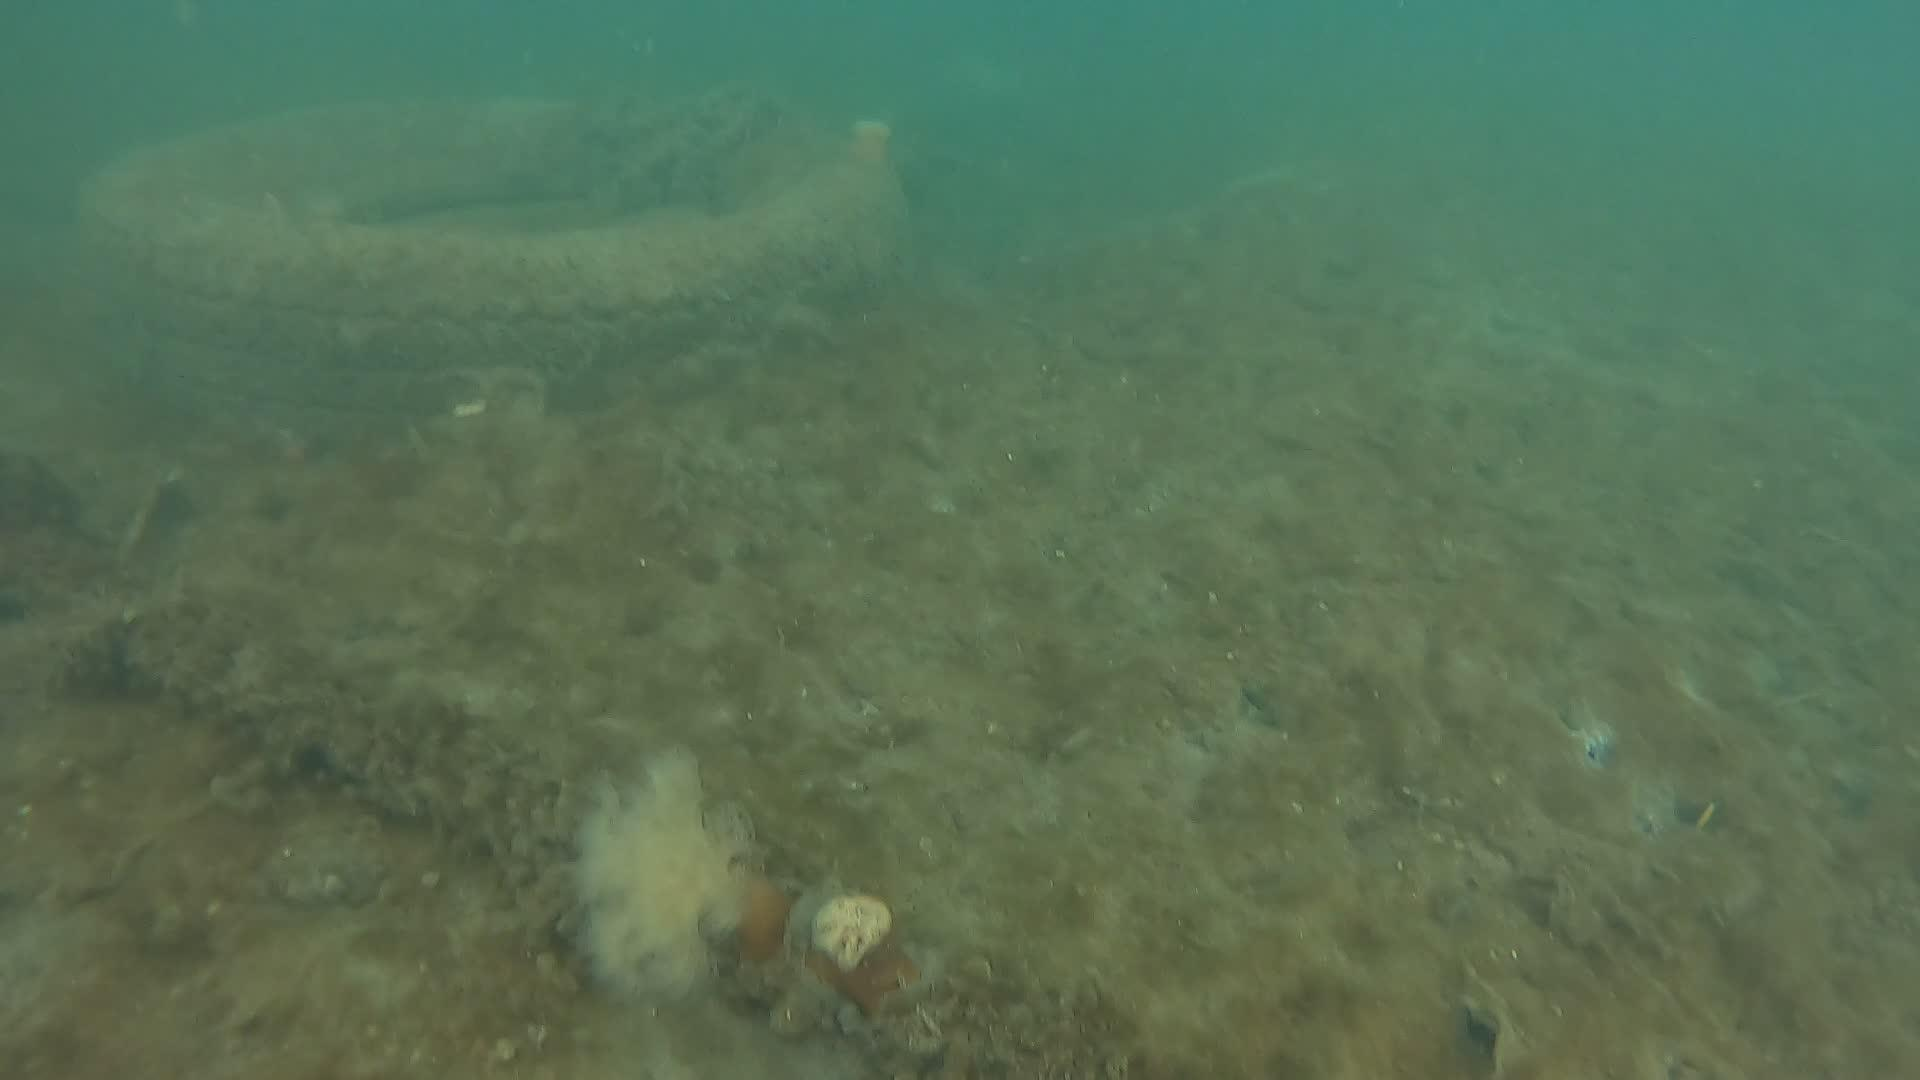tire: (59, 90, 922, 458)
